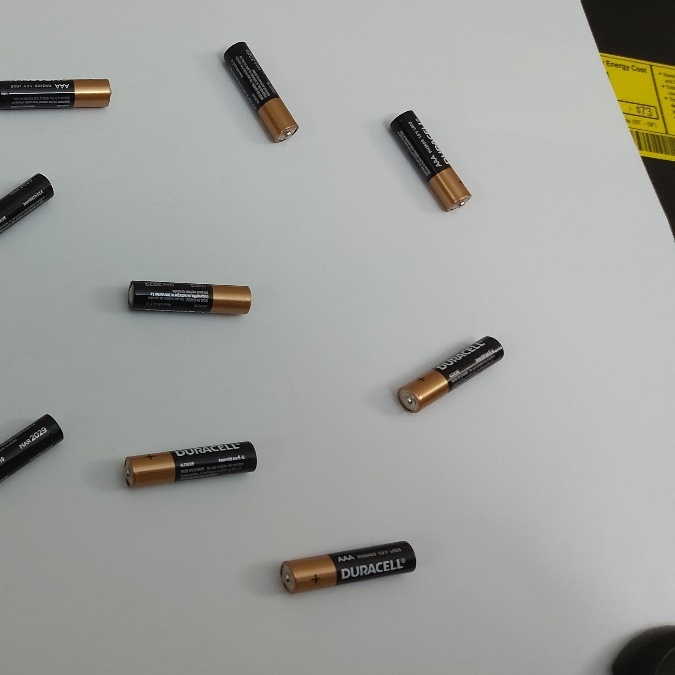battery: (222, 36, 303, 151), (393, 335, 506, 415), (387, 106, 472, 212), (277, 533, 419, 595), (124, 436, 260, 491), (124, 273, 257, 320)
